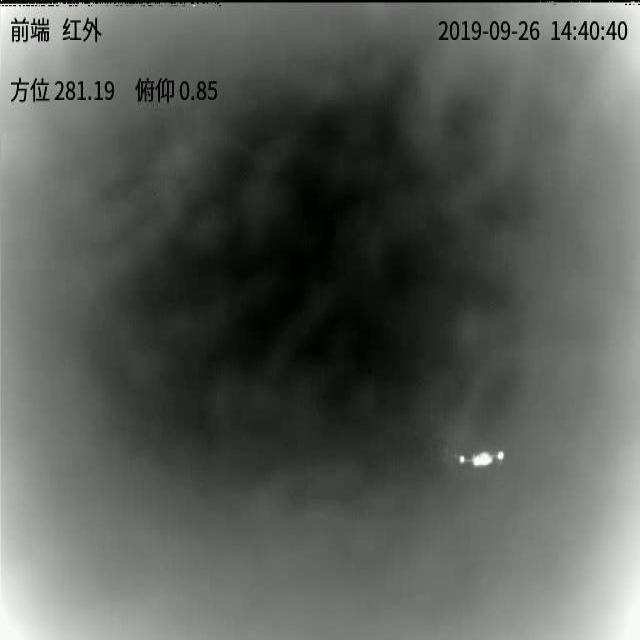drone: (458, 451, 505, 466)
